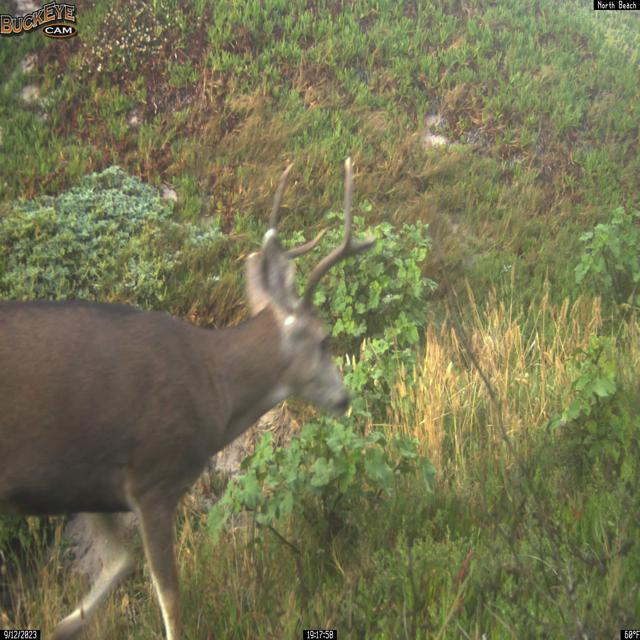deer: (0, 155, 378, 640)
